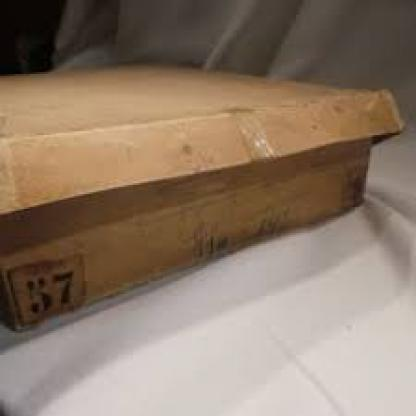CARDBOARD: (0, 61, 405, 327)
